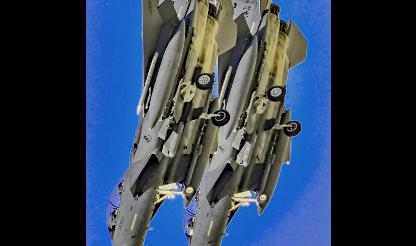F117: (104, 0, 236, 245), (182, 0, 306, 245)
